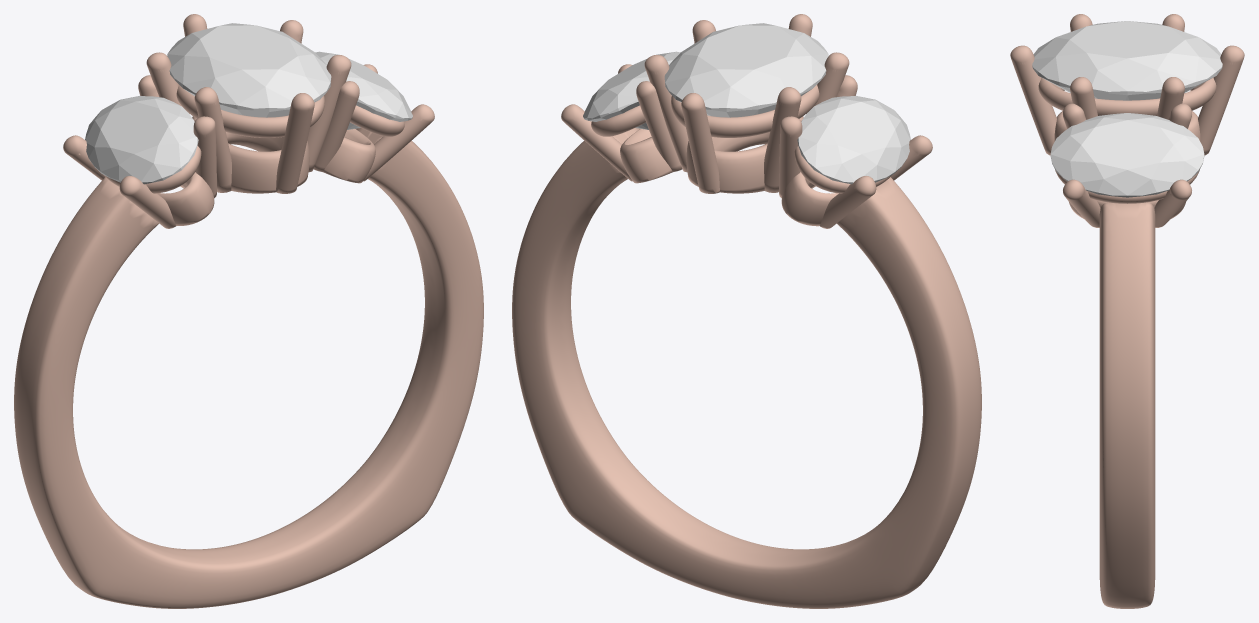
File: diamond-oval-rosegold-6prong-europeanshank-3stone.glb
3 views of the same model, side by side, from view 1: azimuth 30°, elevation 25°; view 2: azimuth 150°, elevation 25°; view 3: azimuth 270°, elevation 25° (orthographic). The views are drawn at different scales.
Parts seen in each view (by area): view 1: metal, stone.001, side.002, side.003; view 2: metal, stone.001, side.002, side.003; view 3: metal, stone.001, side.003.
Part boxes in pixels (x1,y1,x2,y2): metal: (14,14,483,608); stone.001: (167,23,331,117); side.002: (85,95,198,184); side.003: (315,51,412,129); metal: (512,14,981,608); stone.001: (664,23,828,117); side.002: (797,95,910,184); side.003: (583,51,680,129); metal: (1010,14,1244,608); stone.001: (1032,21,1222,100); side.003: (1050,113,1204,197).
Bounding box in the file's own units: 20.11 × 23.21 × 9.29.
